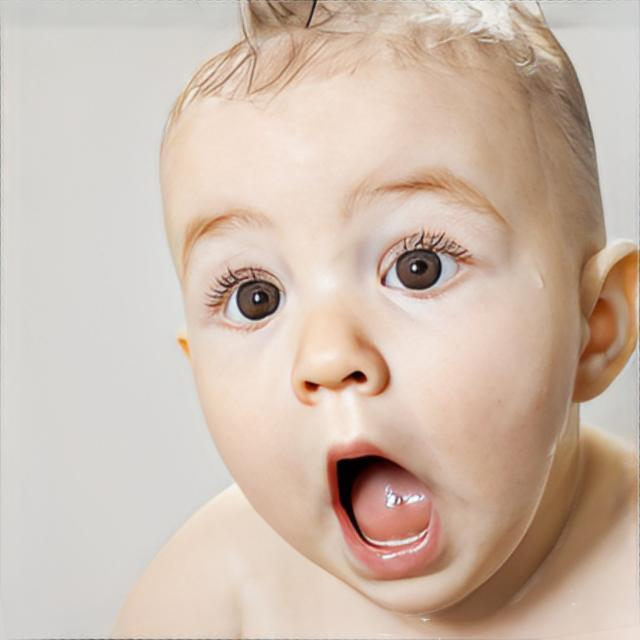surprise: (156, 37, 580, 616)
